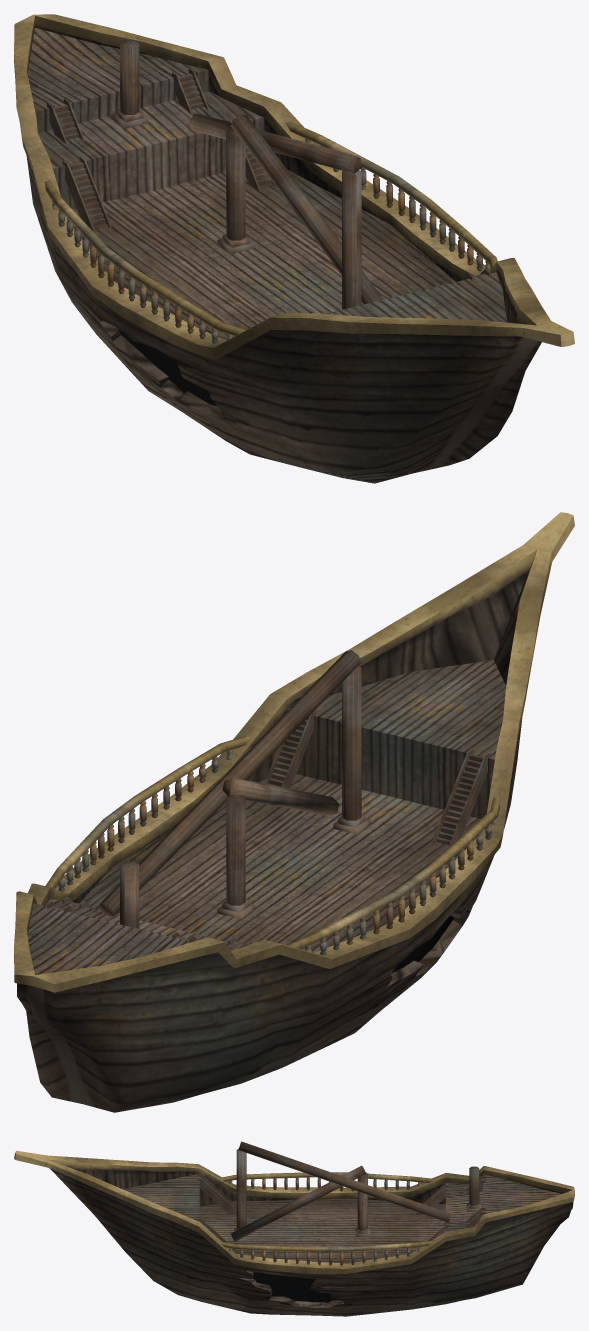
Rendered from OldShip.fbx.
The picture shows the model from 3 angles, top to bottom: view 1: azimuth 30°, elevation 25°; view 2: azimuth 150°, elevation 25°; view 3: azimuth 270°, elevation 25°; orthographic projection. The views are drawn at different scales.
Parts seen in each view (by area): view 1: OutBody, Hashira, Tesuri, Step, InBody; view 2: OutBody, Hashira, Tesuri, Step; view 3: OutBody, Hashira, Tesuri, Step, InBody.
Boxes of the visible parts, x1,y1,x2,y2 form: OutBody: (14, 14, 574, 483); Hashira: (111, 40, 383, 309); Tesuri: (45, 121, 497, 343); Step: (47, 68, 490, 313); InBody: (119, 330, 216, 405); OutBody: (14, 512, 574, 1112); Hashira: (99, 650, 370, 928); Tesuri: (45, 736, 499, 955); Step: (47, 709, 490, 945); OutBody: (14, 1150, 574, 1316); Hashira: (231, 1141, 481, 1241); Tesuri: (220, 1172, 434, 1265); Step: (197, 1174, 485, 1253); InBody: (252, 1272, 332, 1302).
Bounding box in the file's own units: 60.52 × 53.62 × 177.
Materials: 1 (1 with a texture image).
